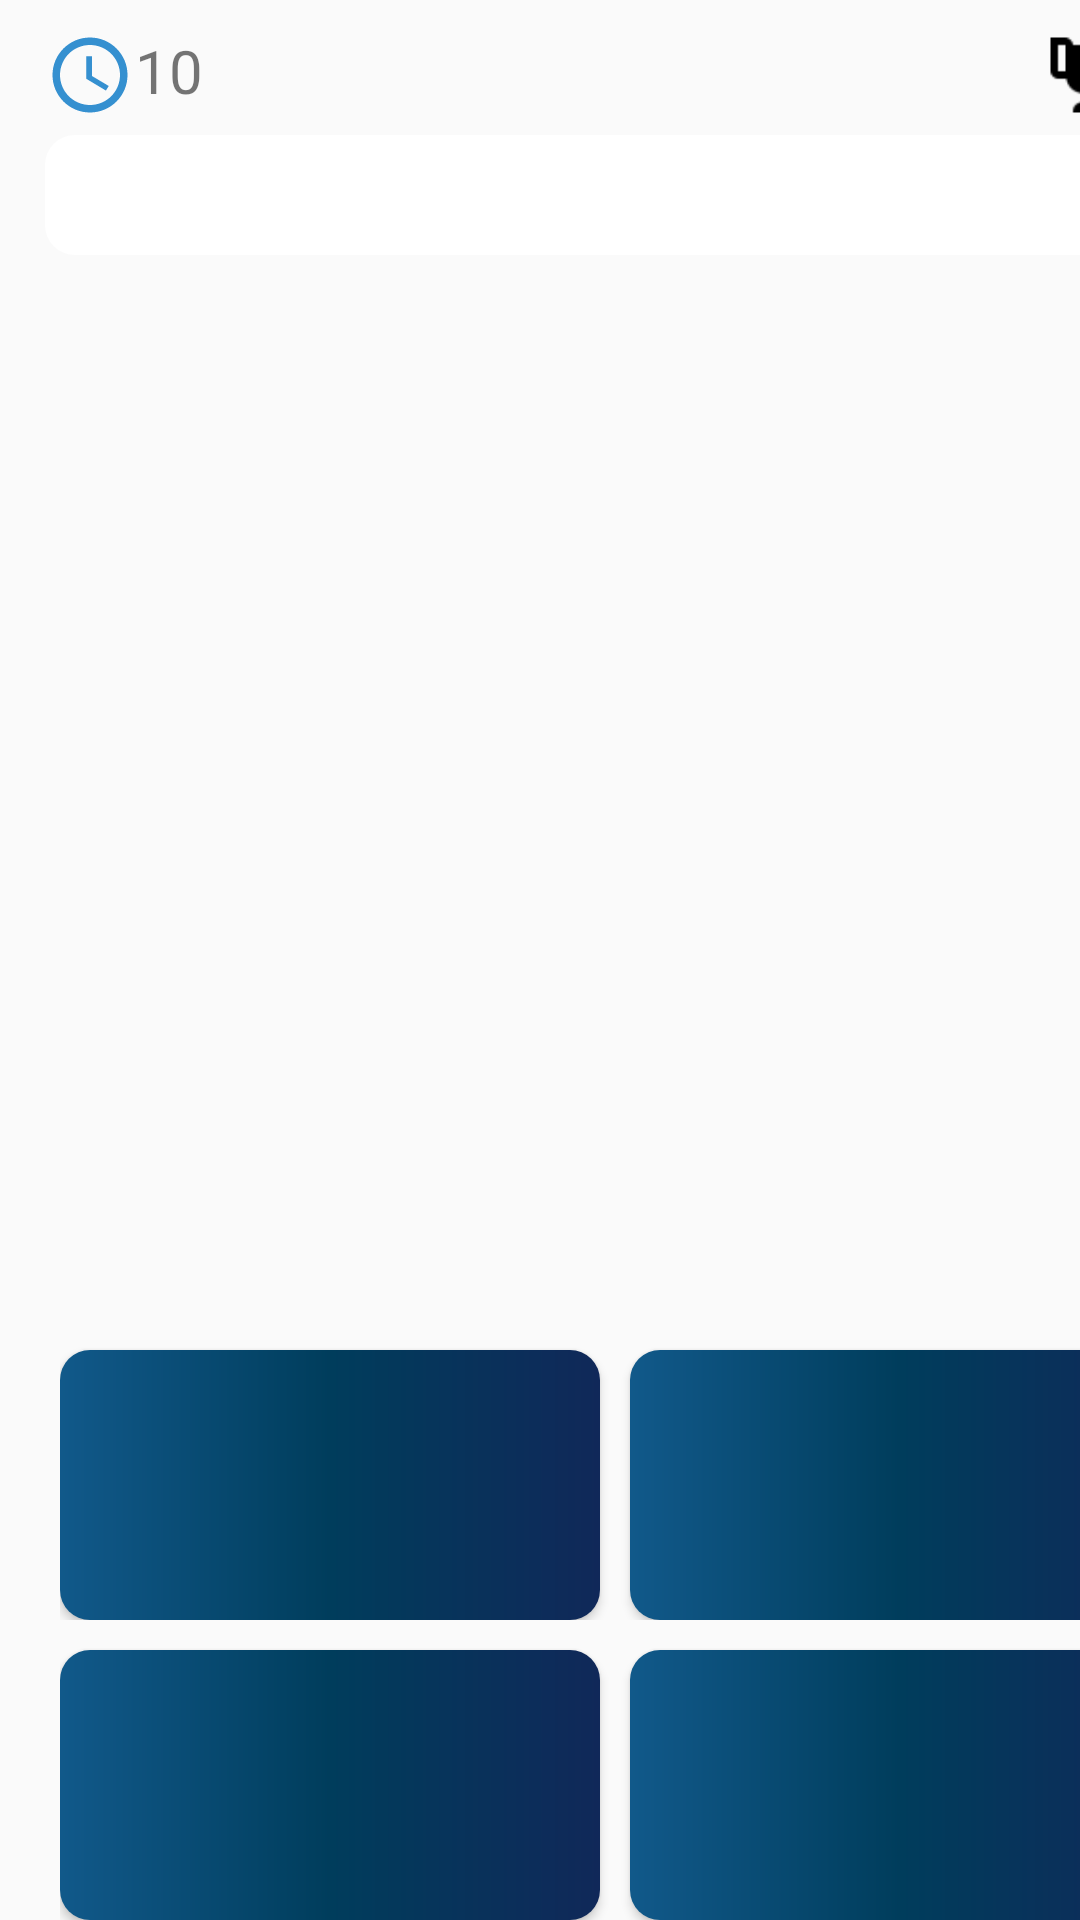

Screen size 1080 x 1920. Icon name, then its box in pixels as (x1, y1, x2, y2):
clock: (52, 37, 128, 113)
